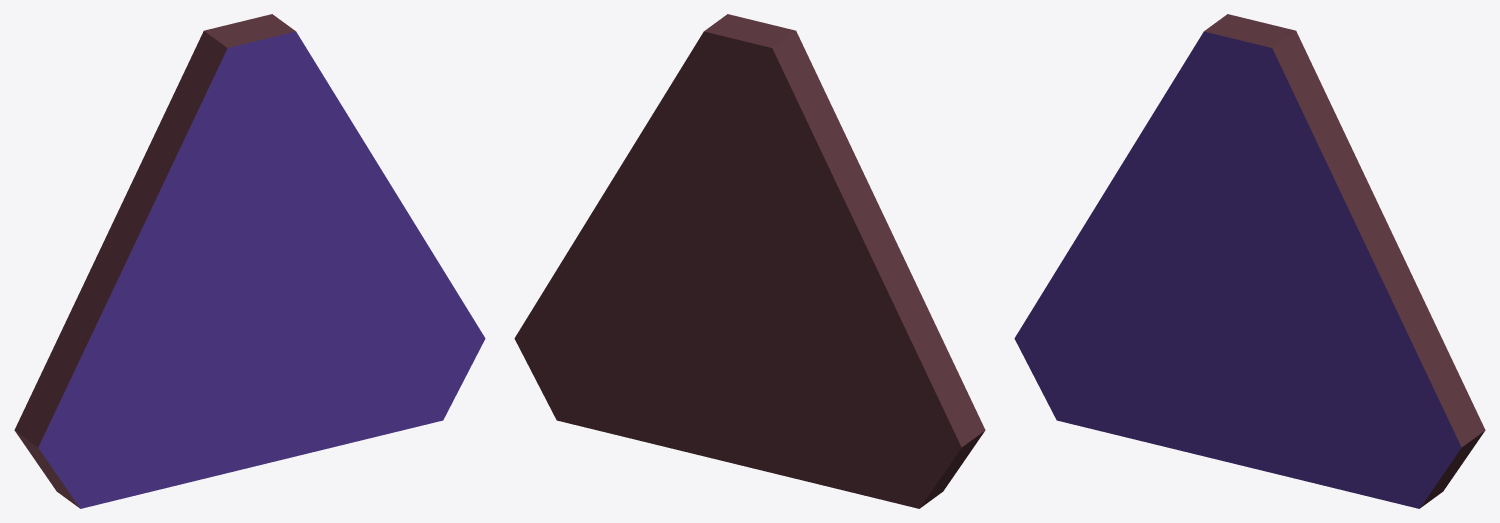
Rendered from furniture-led-panel-triangle.glb.
3 views of the same model, side by side, from view 1: azimuth 30°, elevation 25°; view 2: azimuth 150°, elevation 25°; view 3: azimuth 330°, elevation 25° (orthographic).
Visible parts, largest first — view 1: led-panel-triangle; view 2: led-panel-triangle; view 3: led-panel-triangle.
Boxes of the visible parts, bbox=[...] form: led-panel-triangle: bbox=[14, 14, 485, 508]; led-panel-triangle: bbox=[514, 14, 985, 508]; led-panel-triangle: bbox=[1014, 14, 1485, 508].
Size of the model in its own units: 0.2168 by 0.1968 by 0.02.
